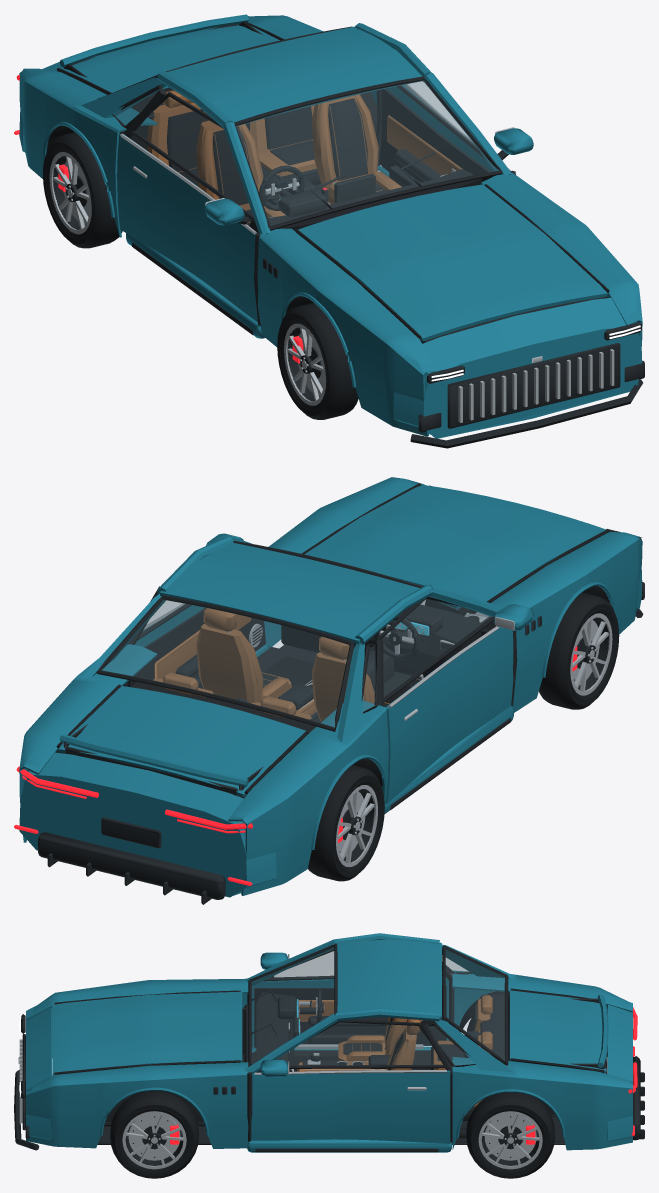
File: velaro_gt.glb
The picture shows the model from 3 angles, top to bottom: view 1: azimuth 30°, elevation 25°; view 2: azimuth 150°, elevation 25°; view 3: azimuth 270°, elevation 25°; orthographic projection. The views are drawn at different scales.
Parts seen in each view (by area): view 1: Body_Interior, Hood_Mesh, Door_L_Mesh, Door_R_Mesh, Trunk_Mesh, Wheel_FL_Mesh, Wheel_RL_Mesh; view 2: Body_Interior, Hood_Mesh, Door_L_Mesh, Trunk_Mesh, Wheel_FL_Mesh, Wheel_RL_Mesh, Door_R_Mesh; view 3: Body_Interior, Door_R_Mesh, Hood_Mesh, Trunk_Mesh, Wheel_FR_Mesh, Wheel_RR_Mesh, Door_L_Mesh.
Part boxes in pixels (bbox=[...]): Body_Interior: bbox=[14, 15, 644, 448]; Hood_Mesh: bbox=[298, 184, 607, 342]; Door_L_Mesh: bbox=[117, 92, 257, 322]; Door_R_Mesh: bbox=[379, 81, 533, 186]; Trunk_Mesh: bbox=[59, 14, 279, 95]; Wheel_FL_Mesh: bbox=[277, 303, 358, 419]; Wheel_RL_Mesh: bbox=[43, 132, 122, 248]; Body_Interior: bbox=[14, 477, 644, 904]; Hood_Mesh: bbox=[304, 485, 606, 601]; Door_L_Mesh: bbox=[377, 597, 533, 803]; Trunk_Mesh: bbox=[58, 686, 305, 797]; Wheel_FL_Mesh: bbox=[539, 592, 619, 709]; Wheel_RL_Mesh: bbox=[308, 765, 384, 881]; Door_R_Mesh: bbox=[128, 533, 265, 688]; Body_Interior: bbox=[14, 933, 644, 1152]; Door_R_Mesh: bbox=[251, 1019, 450, 1143]; Hood_Mesh: bbox=[52, 991, 242, 1075]; Trunk_Mesh: bbox=[509, 990, 608, 1073]; Wheel_FR_Mesh: bbox=[110, 1090, 198, 1178]; Wheel_RR_Mesh: bbox=[466, 1092, 554, 1178]; Door_L_Mesh: bbox=[252, 949, 448, 1047].
Size of the model in its own units: 2.22 by 1.38 by 5.05.
